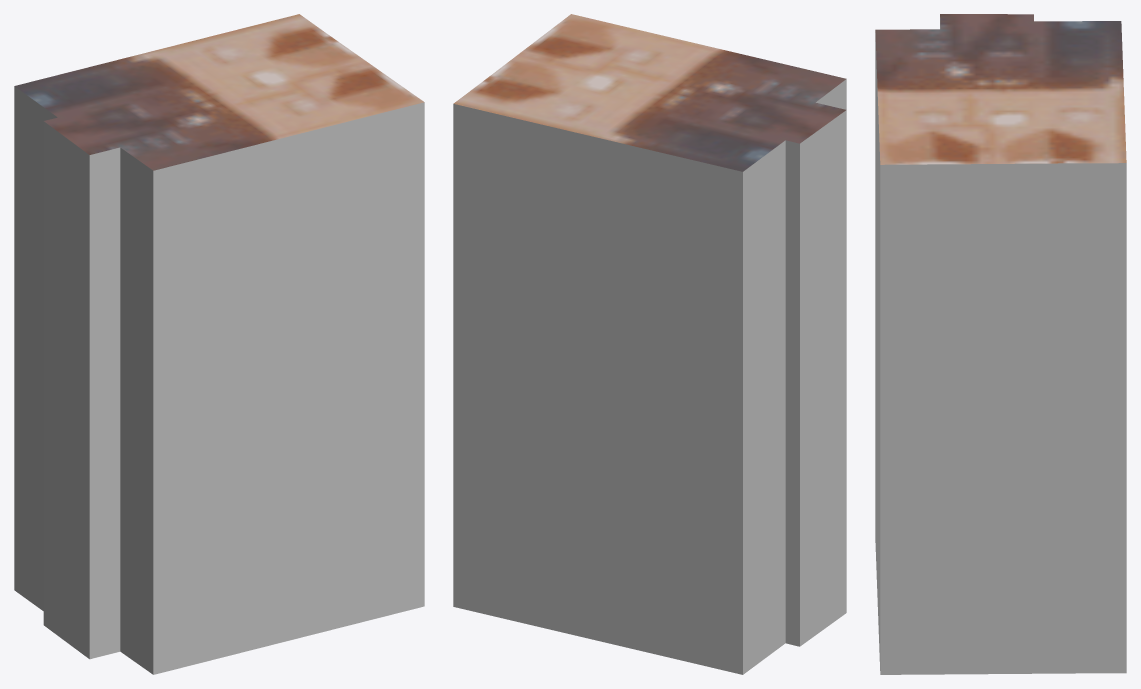
File: DEBW_0010007Tx7P.gltf
3 renders of one model, left to right at view 1: azimuth 30°, elevation 25°; view 2: azimuth 150°, elevation 25°; view 3: azimuth 270°, elevation 25°, orthographic.
Visible parts, largest first — view 1: Z_UP; view 2: Z_UP; view 3: Z_UP.
Part boxes in pixels (x1=…): Z_UP: x1=14, y1=14, x2=424, y2=674; Z_UP: x1=453, y1=14, x2=846, y2=674; Z_UP: x1=875, y1=14, x2=1126, y2=674.
Bounding box in the file's own units: 13.03 × 20.55 × 9.17.
Materials: 2 (1 with a texture image).
